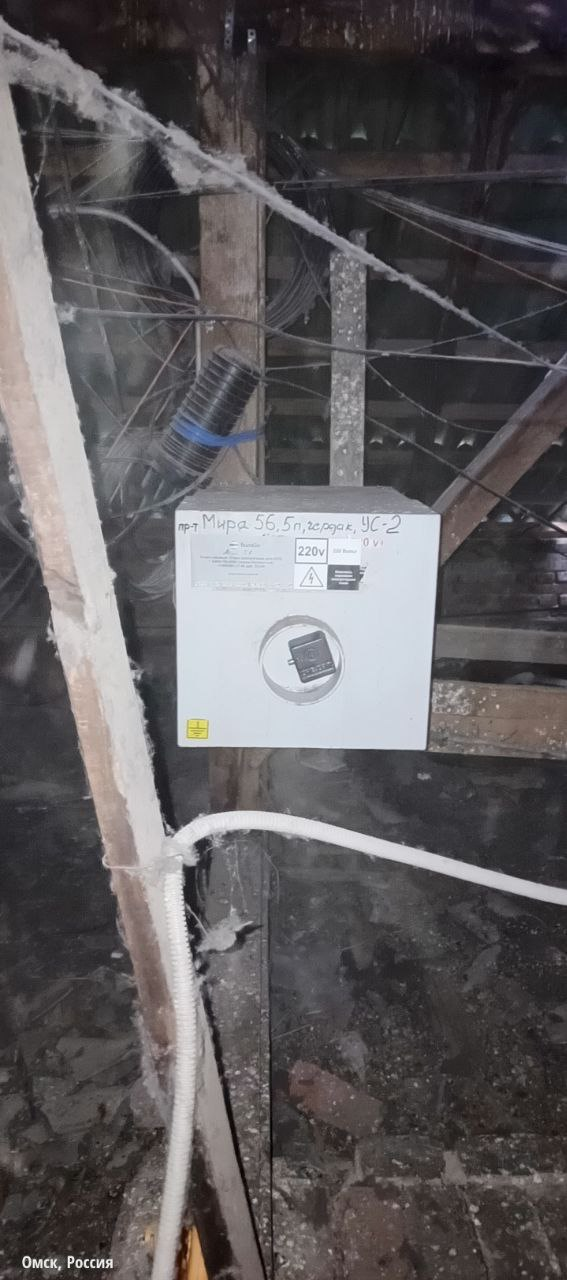shta-9: (165, 477, 448, 751)
